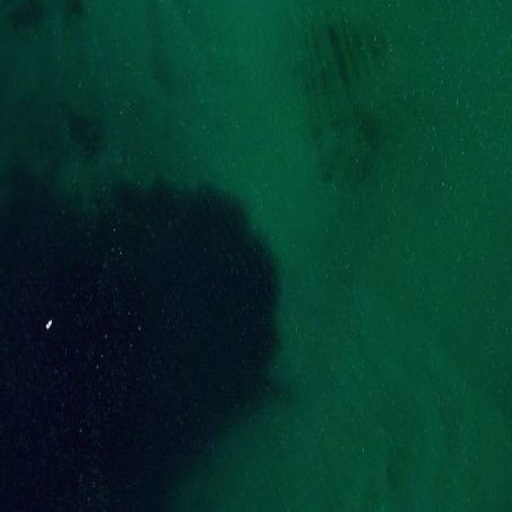ship: (44, 318, 53, 331)
